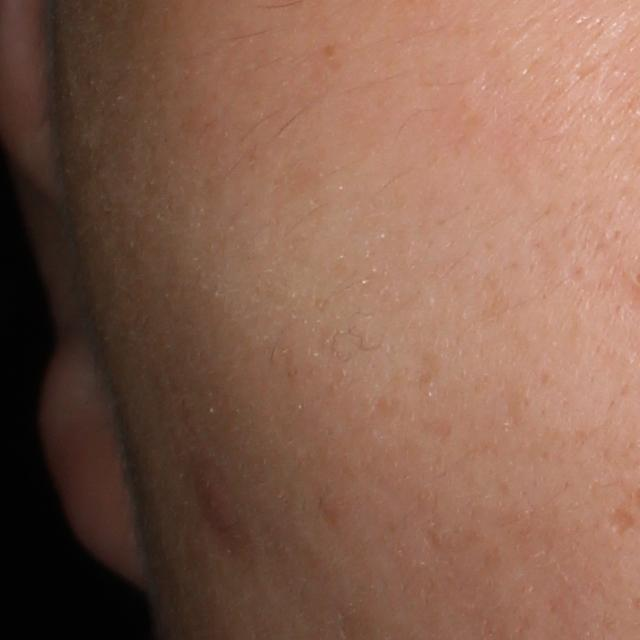atrophic_scar: (603, 505, 636, 537)
papule: (195, 473, 240, 529)
